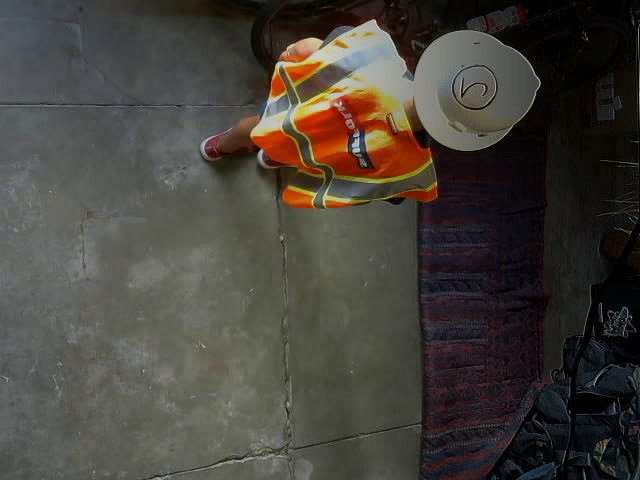two: (452, 63, 500, 110)
